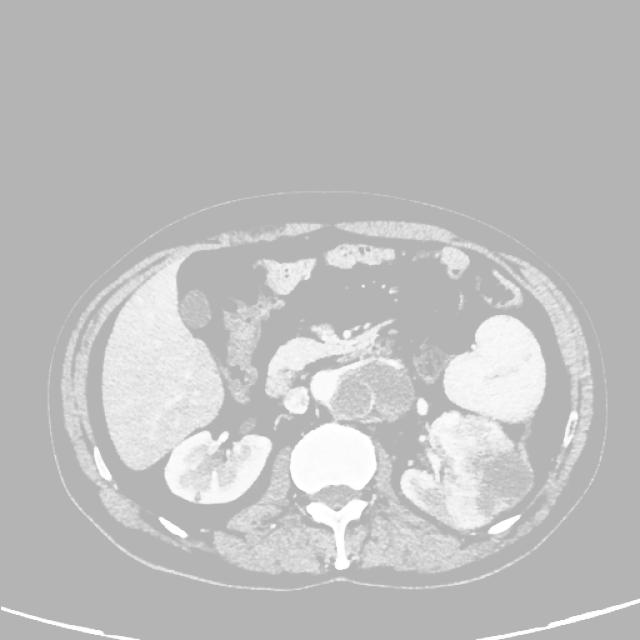TUMOR: (109, 263, 560, 548)
